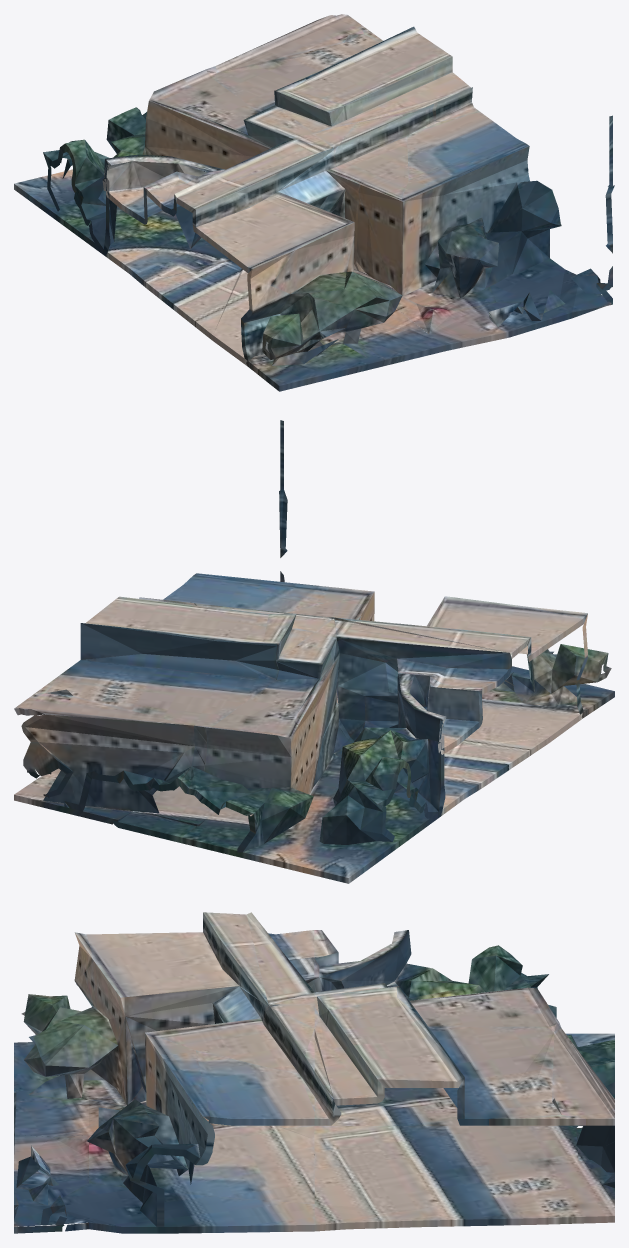
The model's file is chunk_5_-7.glb.
The picture shows the model from 3 angles, top to bottom: view 1: azimuth 30°, elevation 25°; view 2: azimuth 150°, elevation 25°; view 3: azimuth 270°, elevation 25°; orthographic projection. The views are drawn at different scales.
Visible parts, largest first — view 1: hero-chunk; view 2: hero-chunk; view 3: hero-chunk.
Part boxes in pixels (x1,y1,x2,y2): hero-chunk: [14, 14, 614, 391]; hero-chunk: [14, 420, 614, 883]; hero-chunk: [14, 912, 614, 1233].
Size of the model in its own units: 55.73 by 31.21 by 76.32.
2 materials, 2 textured.
